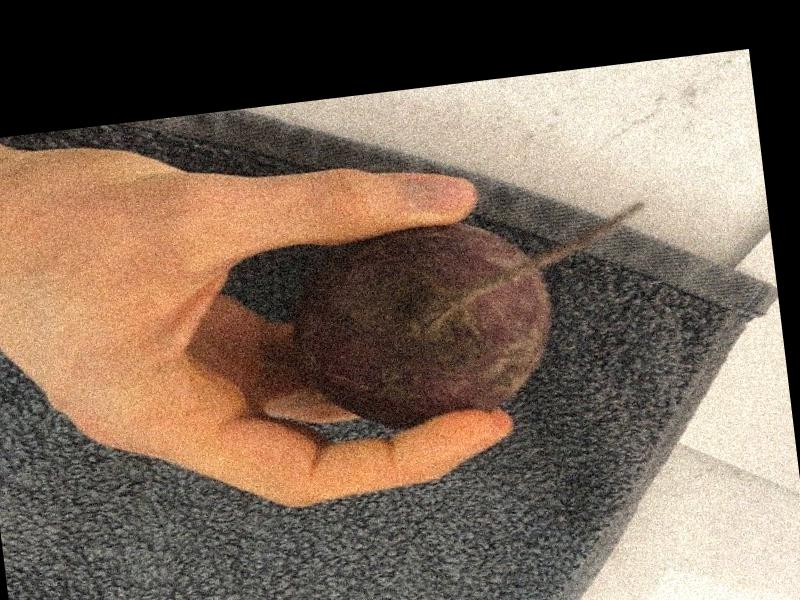Beet: (283, 199, 668, 439)
